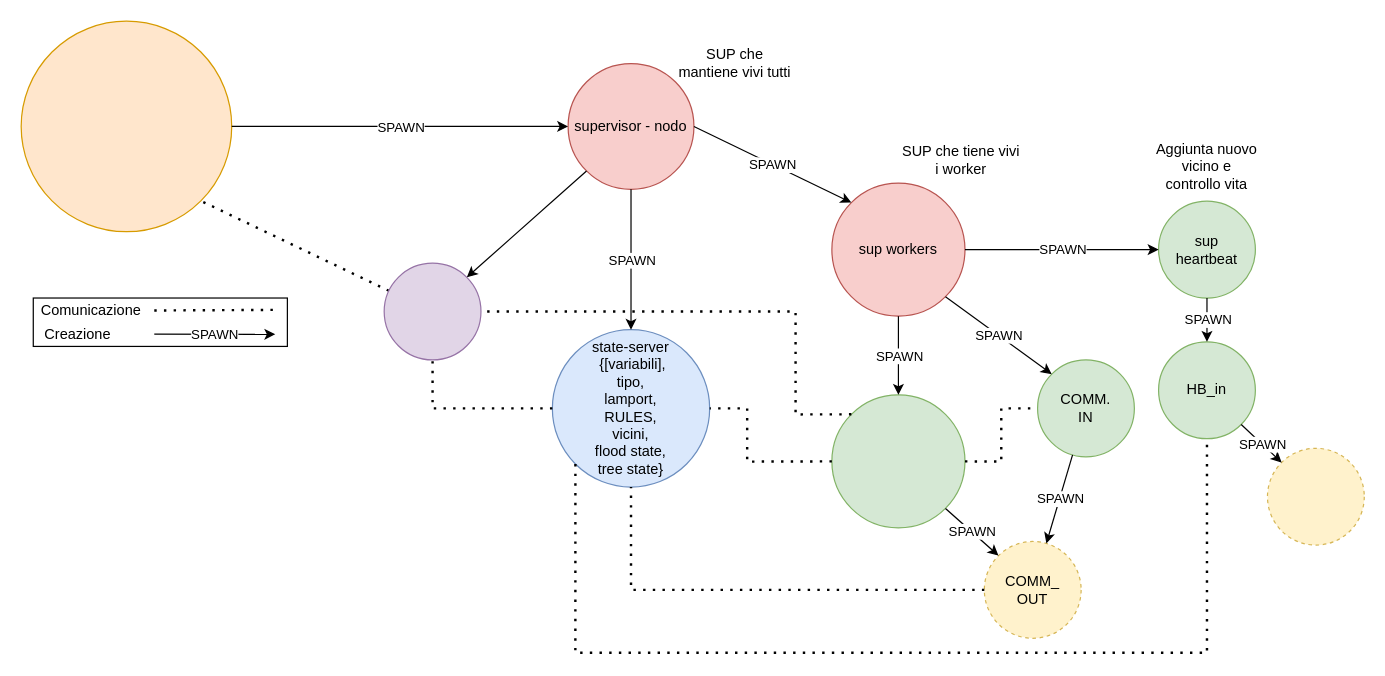
This 1385x676 diagram has some shape labels left out. The shapes that lost their labels are listed below. From the top down, each one's box as (x1, y1, x2, y2) in pixels, then its label:
(20, 20, 232, 232): AMBIENTE
(383, 262, 481, 360): comm. ambiente
(831, 394, 965, 528): RULES WORKER
(1266, 447, 1364, 545): HB_out
